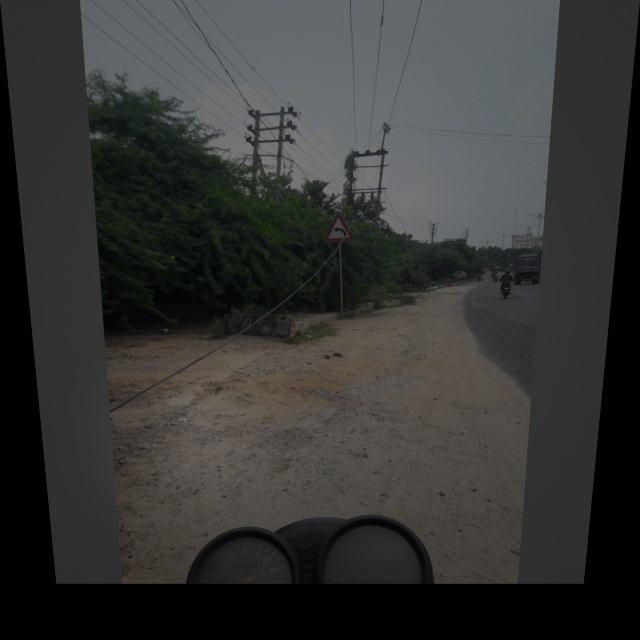Left_Hand_Curve: (324, 213, 354, 243)
